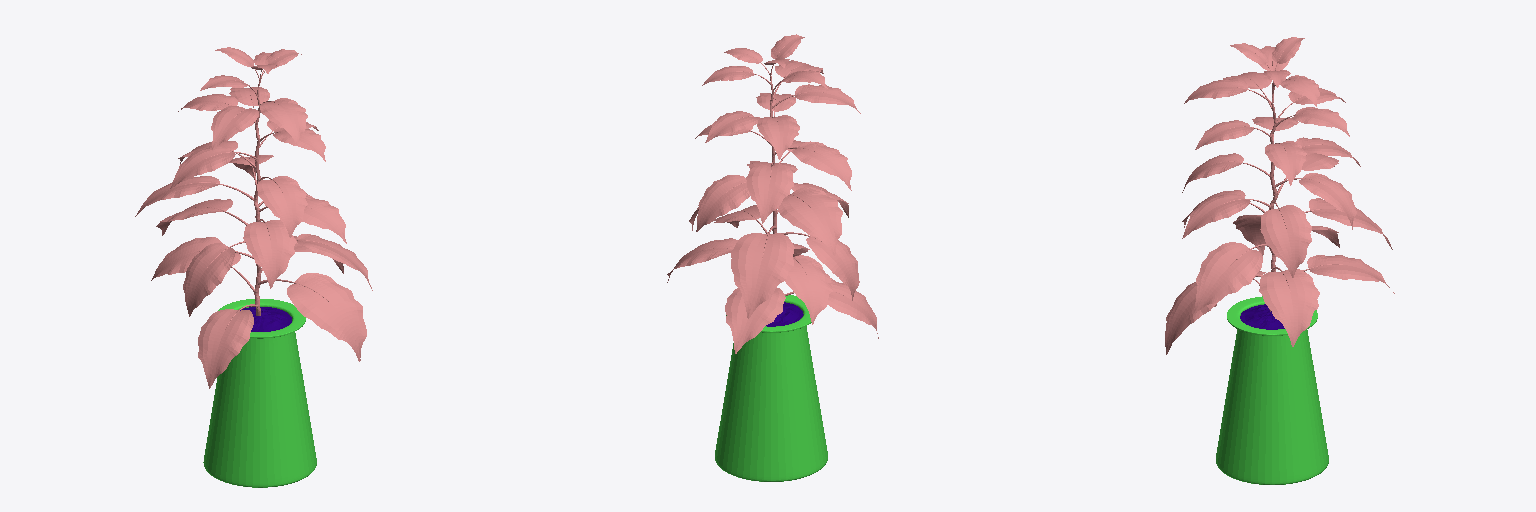
3 renders of one model, left to right at view 1: azimuth 30°, elevation 25°; view 2: azimuth 150°, elevation 25°; view 3: azimuth 270°, elevation 25°, orthographic.
Visible parts, largest first — view 1: cgaxis_plants_20_01, cgaxis_plants_20_03, cgaxis_plants_20_02; view 2: cgaxis_plants_20_01, cgaxis_plants_20_03; view 3: cgaxis_plants_20_01, cgaxis_plants_20_03, cgaxis_plants_20_02.
Part boxes in pixels (x1,y1,x2,y2): cgaxis_plants_20_01: (135, 47, 372, 388); cgaxis_plants_20_03: (203, 299, 316, 487); cgaxis_plants_20_02: (240, 307, 291, 331); cgaxis_plants_20_01: (667, 34, 878, 353); cgaxis_plants_20_03: (715, 295, 827, 481); cgaxis_plants_20_01: (1165, 37, 1394, 354); cgaxis_plants_20_03: (1216, 296, 1328, 484); cgaxis_plants_20_02: (1240, 304, 1284, 329).
Bounding box in the file's own units: 11.76 × 24.56 × 12.42.